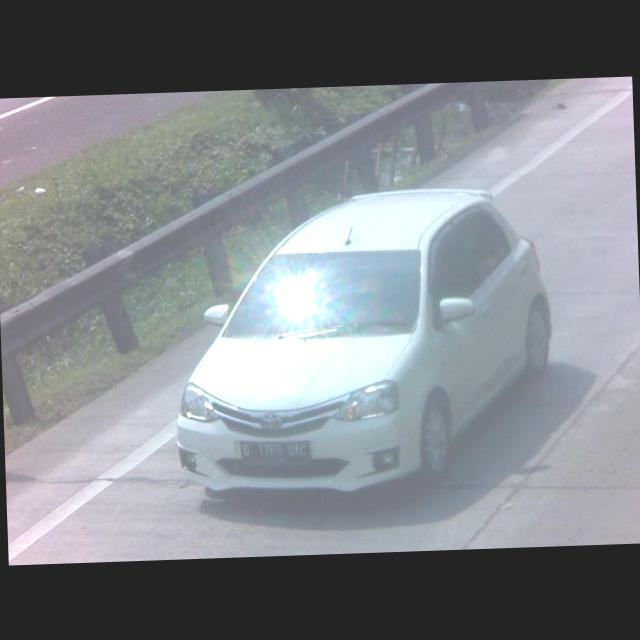plate: (235, 434, 310, 466)
